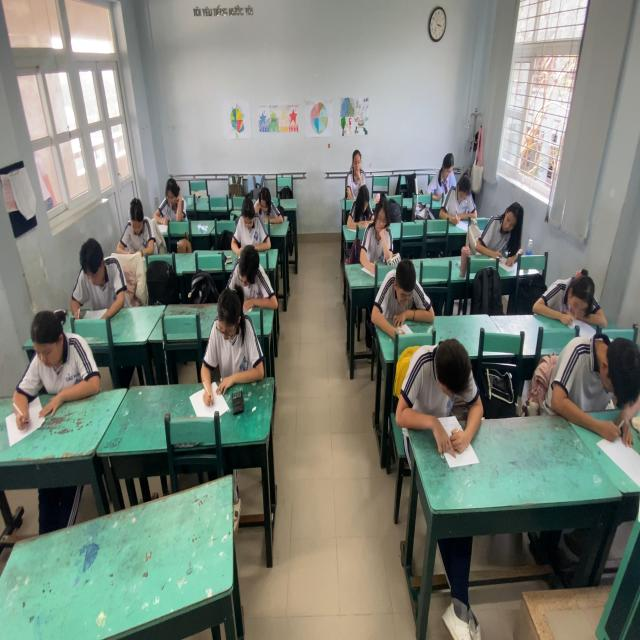cheating: (478, 192, 523, 260)
not_cheating: (555, 313, 636, 451), (415, 334, 475, 464), (17, 307, 91, 407), (208, 284, 262, 380), (72, 237, 126, 328), (544, 257, 606, 331), (378, 249, 426, 328), (123, 198, 159, 264), (232, 243, 270, 305), (364, 190, 393, 266), (157, 171, 188, 226), (430, 144, 457, 207), (445, 169, 474, 223), (236, 195, 266, 245), (344, 141, 368, 191), (345, 182, 371, 228), (254, 179, 280, 223)
